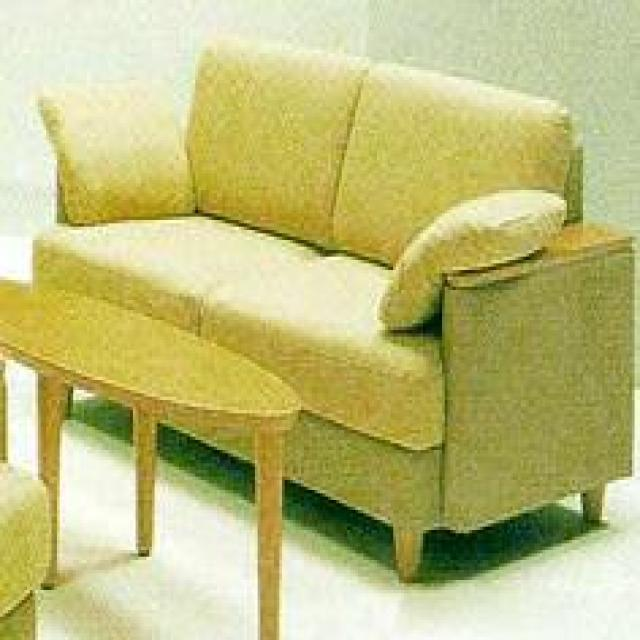sofa: (26, 36, 636, 584)
